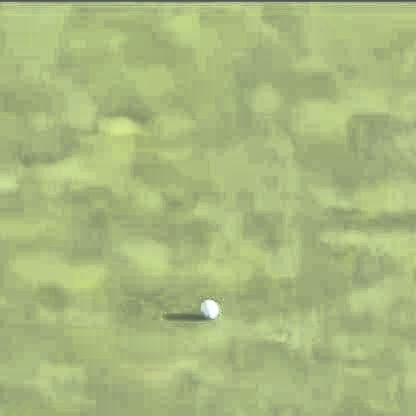golfball: (197, 296, 216, 318)
